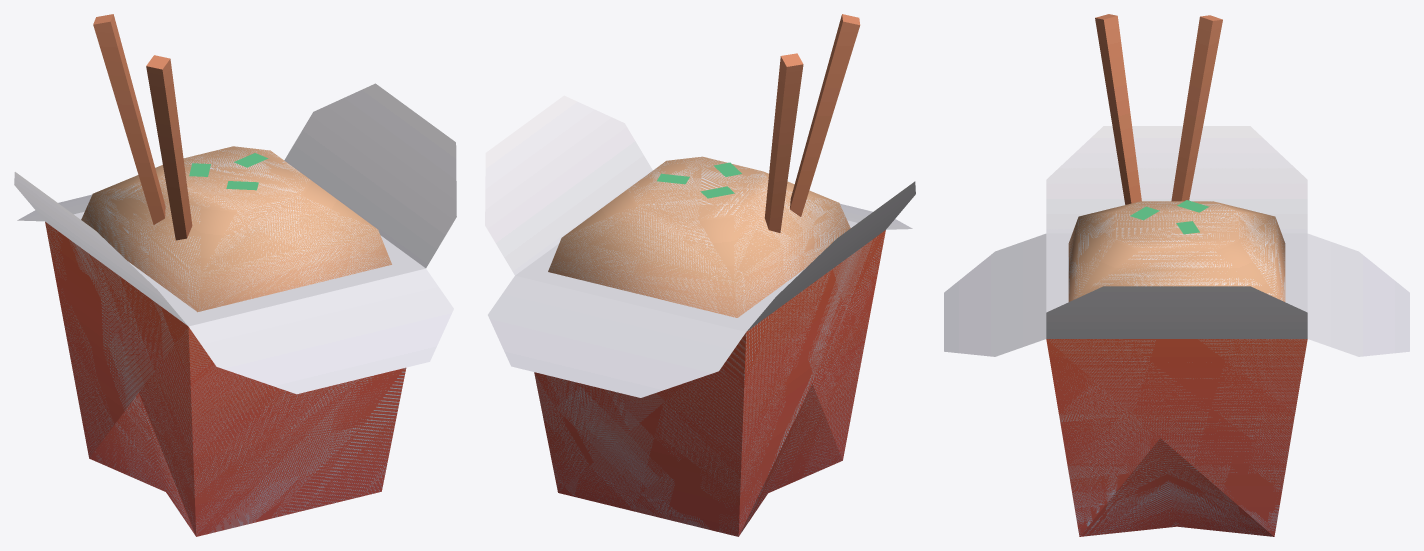
File: chinese.e893ab89cf.glb
3 views of the same model, side by side, from view 1: azimuth 30°, elevation 25°; view 2: azimuth 150°, elevation 25°; view 3: azimuth 270°, elevation 25° (orthographic). The views are drawn at different scales.
Parts seen in each view (by area): view 1: chinese, chopstick (×2); view 2: chinese, chopstick (×2); view 3: chinese, chopstick (×2).
Boxes of the visible parts, bbox=[...] form: chinese: bbox=[14, 83, 456, 536]; chopstick (×2): bbox=[93, 14, 192, 240]; chinese: bbox=[485, 95, 915, 536]; chopstick (×2): bbox=[764, 14, 860, 232]; chinese: bbox=[944, 126, 1409, 536]; chopstick (×2): bbox=[1095, 14, 1222, 204].
Size of the model in its own units: 0.4539 by 0.5671 by 0.5575.
1 material, 1 textured.
